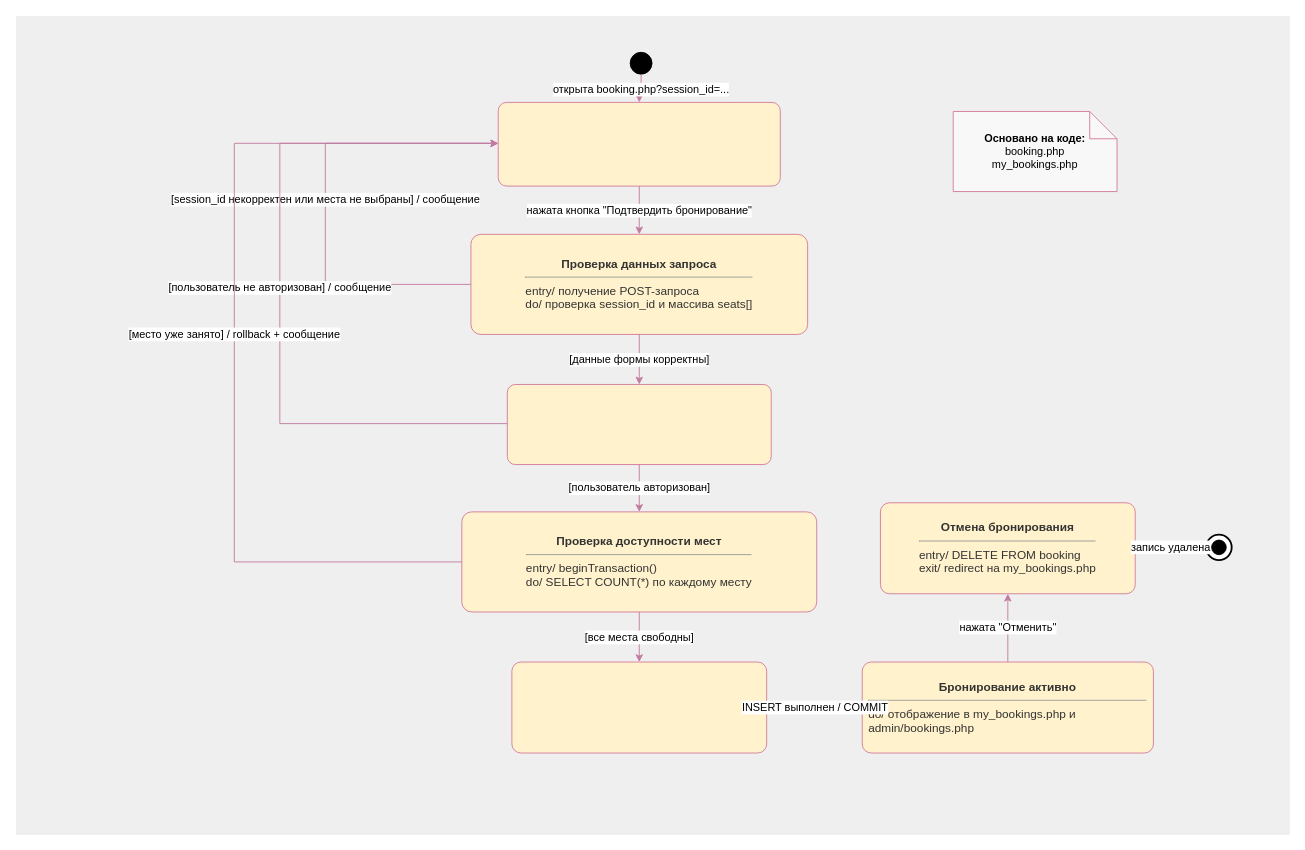
This 1305x850 diagram has some shape labels left out. Here are the shapes that lost their labels. From the top down, the centre of each, then its label:
point (638, 143): Ожидание выбора мест do/ отображение схемы зала и занятых мест
point (638, 424): Проверка авторизации do/ проверка session-пользователя
point (639, 707): Создание бронирования do/ INSERT INTO booking exit/ COMMIT транзакции
